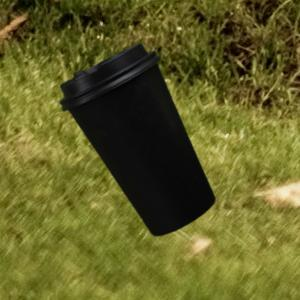cup: (60, 45, 218, 238)
